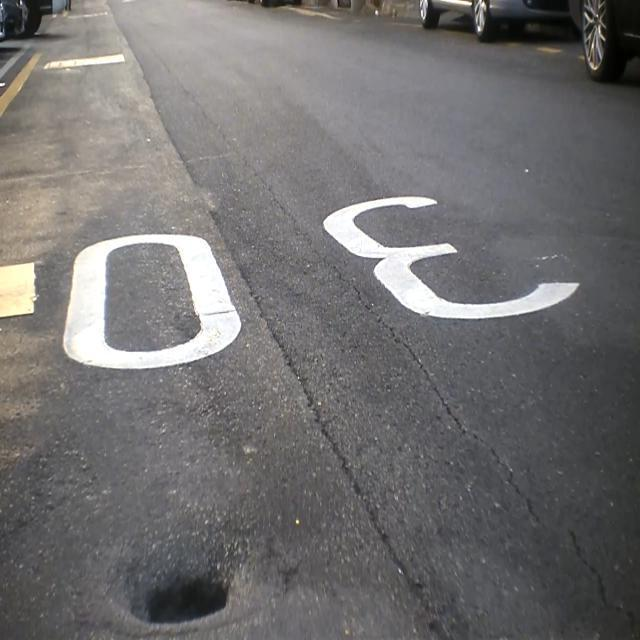pothole: (119, 519, 254, 640)
